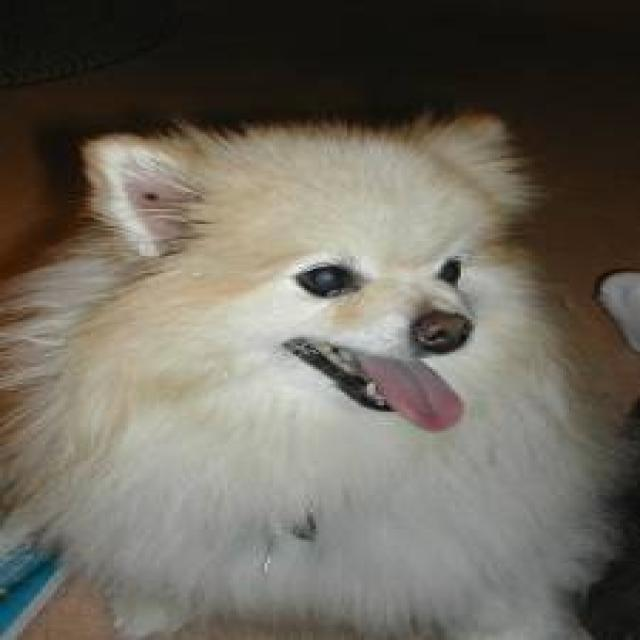dog-pomeranian: (3, 102, 623, 636)
